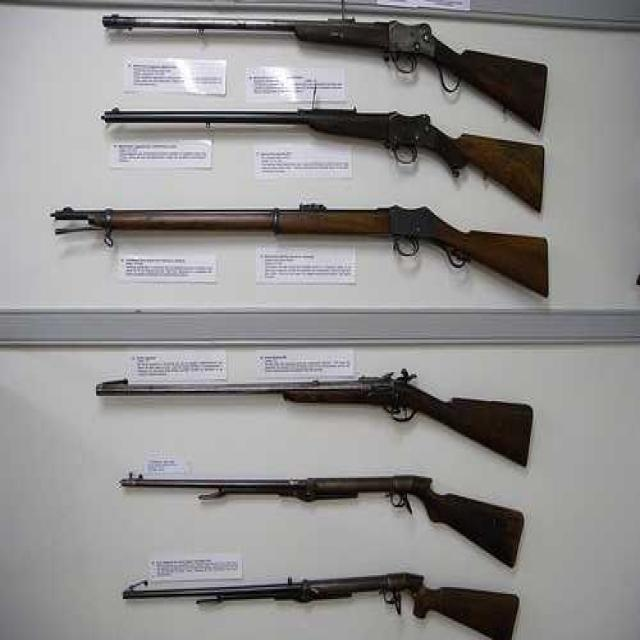heavyweapon: (96, 81, 560, 228), (56, 360, 544, 493), (45, 195, 561, 310), (96, 443, 535, 556), (105, 10, 545, 104), (117, 562, 531, 640)
